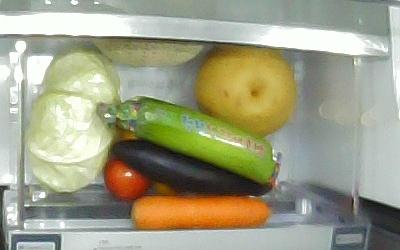cabbage: (26, 48, 120, 192)
carrot: (131, 195, 271, 230)
eggplant: (113, 138, 274, 196)
melon: (91, 38, 205, 66)
pear: (195, 45, 297, 137)
prune: (103, 158, 152, 202)
zucchini: (96, 95, 282, 188)
